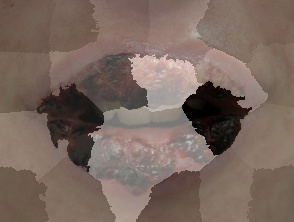SJS-TEN: (16, 0, 288, 222)
